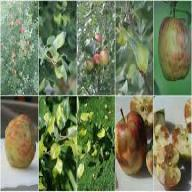apple: (151, 117, 186, 185), (115, 110, 148, 178), (158, 14, 190, 82), (4, 116, 36, 178)
